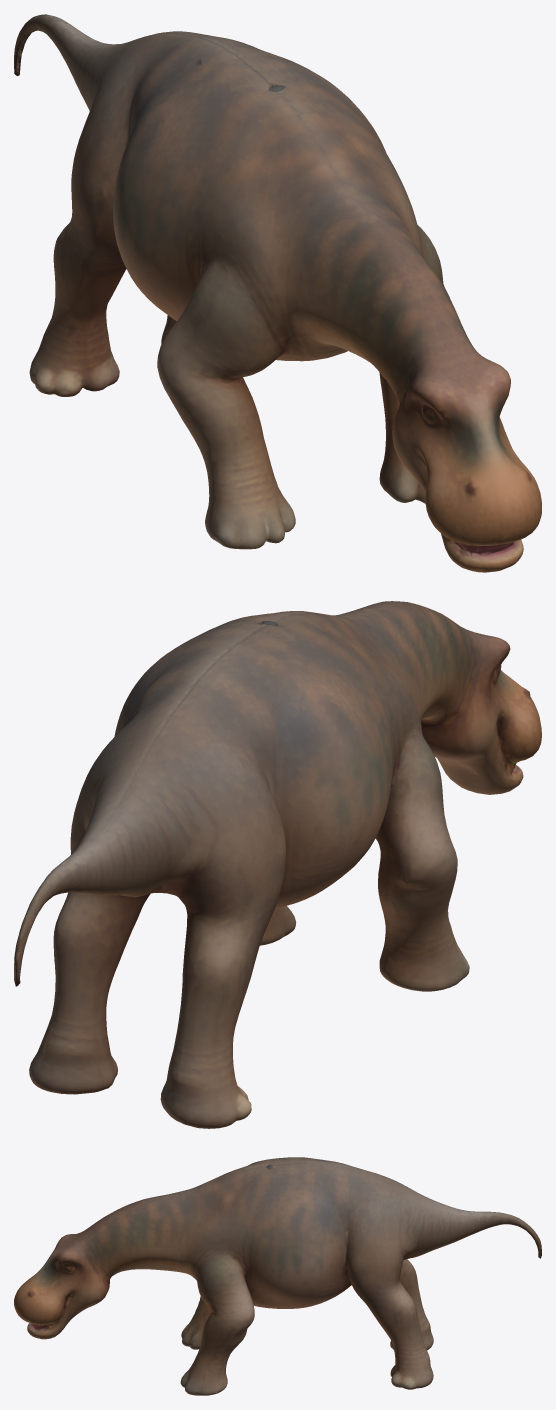
3 renders of one model, top to bottom at view 1: azimuth 30°, elevation 25°; view 2: azimuth 150°, elevation 25°; view 3: azimuth 270°, elevation 25°, orthographic. The views are drawn at different scales.
Parts seen in each view (by area): view 1: geometry_0; view 2: geometry_0; view 3: geometry_0.
Part boxes in pixels (x1=…): geometry_0: x1=14, y1=14, x2=541, y2=572; geometry_0: x1=14, y1=601, x2=541, y2=1128; geometry_0: x1=14, y1=1157, x2=541, y2=1395.
Size of the model in its own units: 2.97 by 3.81 by 9.
1 material, 1 textured.
